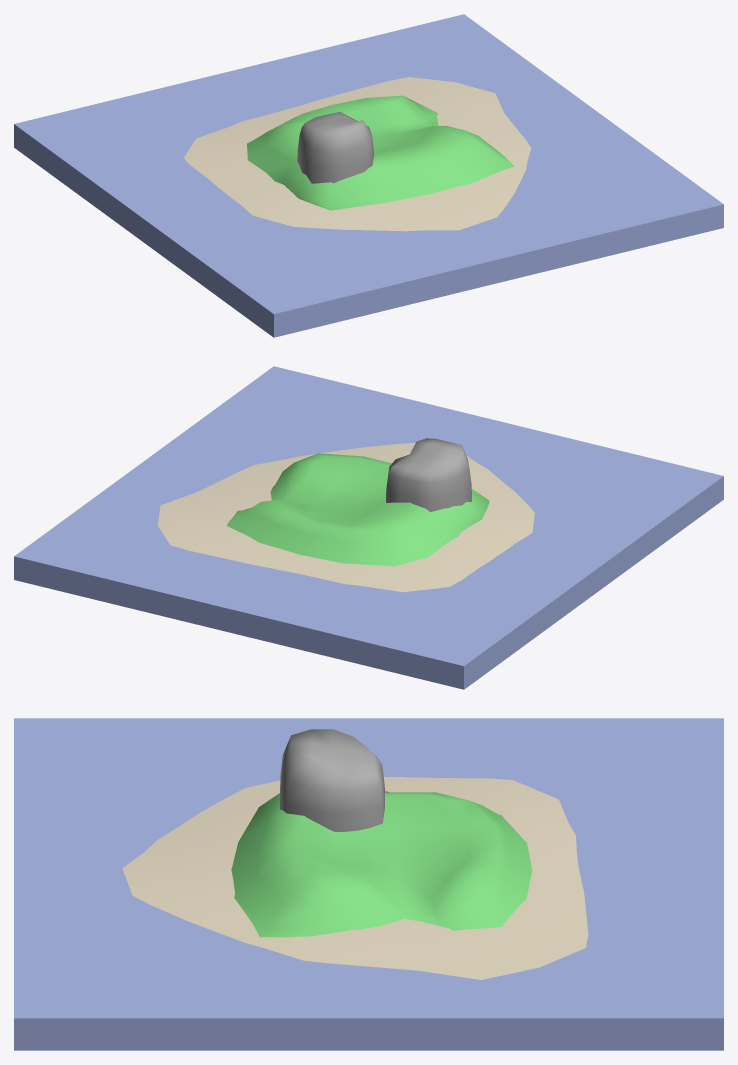
Rendered from island.fbx.
The picture shows the model from 3 angles, top to bottom: view 1: azimuth 30°, elevation 25°; view 2: azimuth 150°, elevation 25°; view 3: azimuth 270°, elevation 25°; orthographic projection. The views are drawn at different scales.
Visible parts, largest first — view 1: water, sand, field, rock; view 2: water, sand, field, rock; view 3: water, sand, field, rock.
Part boxes in pixels (x1,y1,x2,y2): water: (14,14,723,337); sand: (184,77,530,231); field: (247,95,513,210); rock: (297,111,373,183); water: (14,366,723,689); sand: (158,443,534,592); field: (227,453,489,566); rock: (386,438,471,511); water: (14,718,723,1050); sand: (122,776,588,979); field: (231,791,532,937); rock: (280,729,384,831).
Bounding box in the file's own units: 100 × 19.02 × 100.
